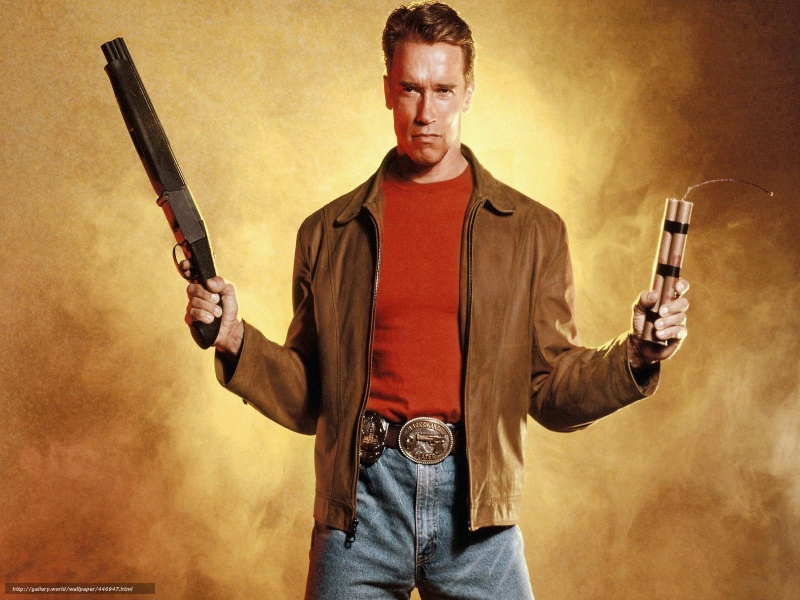person: (179, 1, 688, 600)
weapon: (102, 37, 224, 349)
